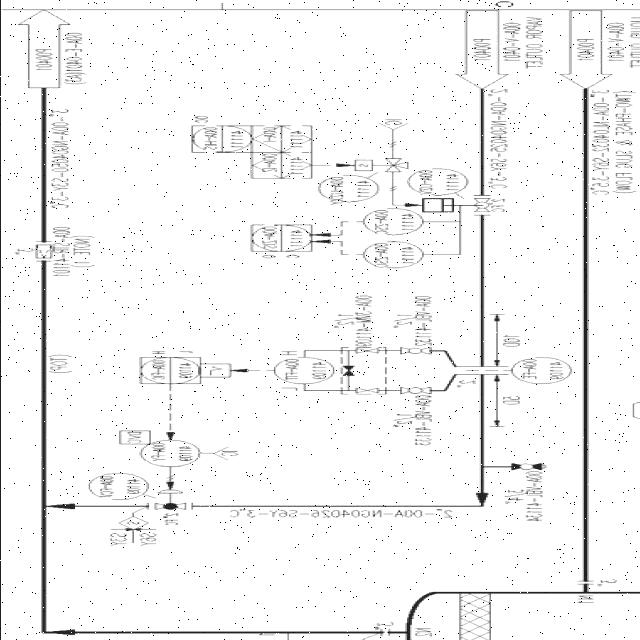3 Way Gate Valve: (384, 156, 408, 174)
Ball Valve: (392, 386, 438, 395), (394, 346, 432, 354)
Closed Gate Valve: (340, 363, 358, 379)
Gate Valve: (349, 384, 386, 392), (350, 348, 378, 353)
Globe Valve: (500, 457, 546, 471)
Pneumatic-Diaphragm Globe Valve: (149, 488, 189, 511)
